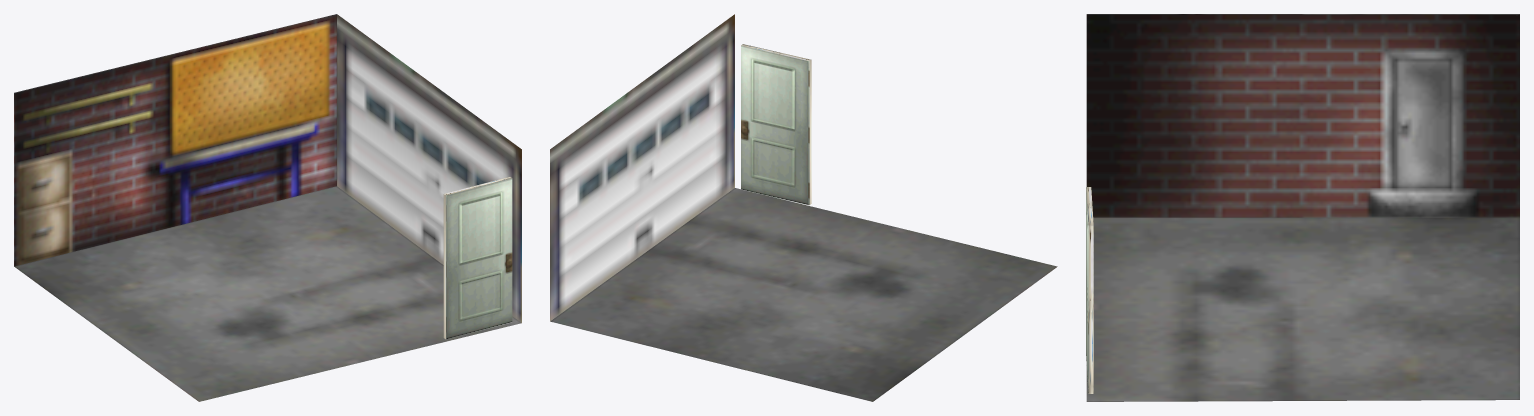
Rendered from GARAGE.glb.
The picture shows the model from 3 angles, left to right: view 1: azimuth 30°, elevation 25°; view 2: azimuth 150°, elevation 25°; view 3: azimuth 270°, elevation 25°; orthographic projection. The views are drawn at different scales.
Visible parts, largest first — view 1: GARAGE; view 2: GARAGE; view 3: GARAGE.
Boxes of the visible parts, <box> form: GARAGE: <box>14,14,521,401</box>; GARAGE: <box>550,14,1057,401</box>; GARAGE: <box>1086,14,1519,401</box>.
Bounding box in the file's own units: 1200 × 617 × 1192.
5 materials, 5 textured.
